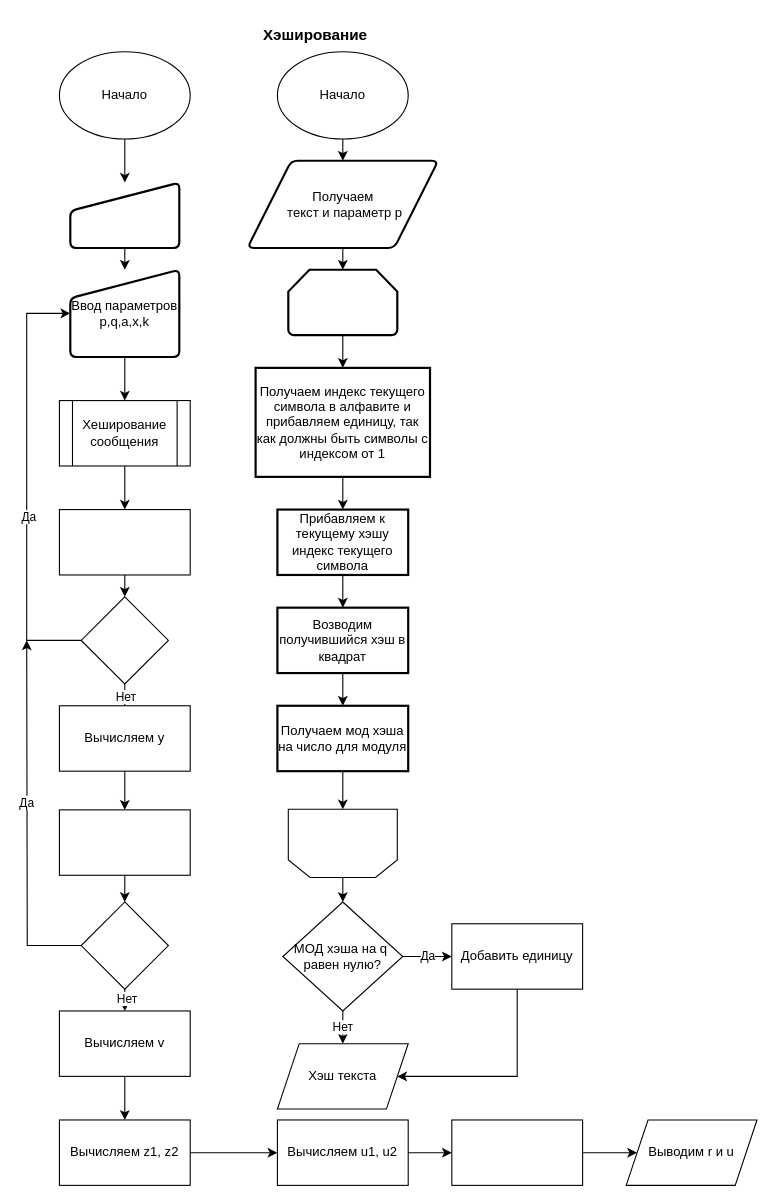
The diagram is 776 pixels wide and 1204 high, and some of its shapes have lost their labels. Here are the shapes that lost their labels. From the top down, the centre of each, then its label:
At pixel 124 215: "Ввод текста".
At pixel 342 302: "Цикл i по всему тексту".
At pixel 124 541: "Вычисляем r".
At pixel 124 640: "r = 0?".
At pixel 124 842: "Вычисляем s".
At pixel 342 842: "i+1".
At pixel 124 945: "s = 0?".
At pixel 517 1152: "Вычисляем u".
